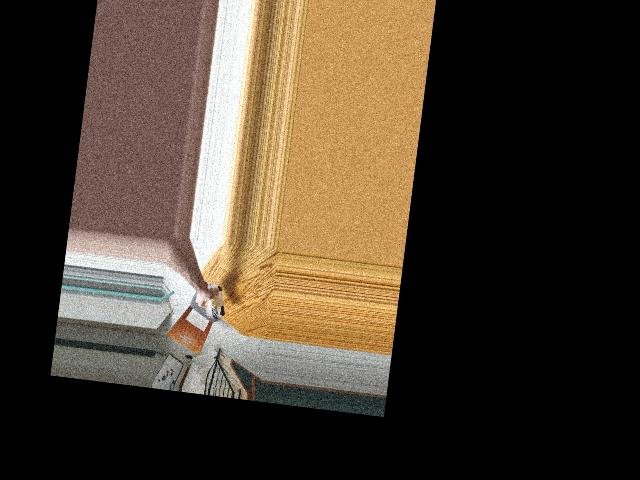cheese: (201, 282, 228, 318)
